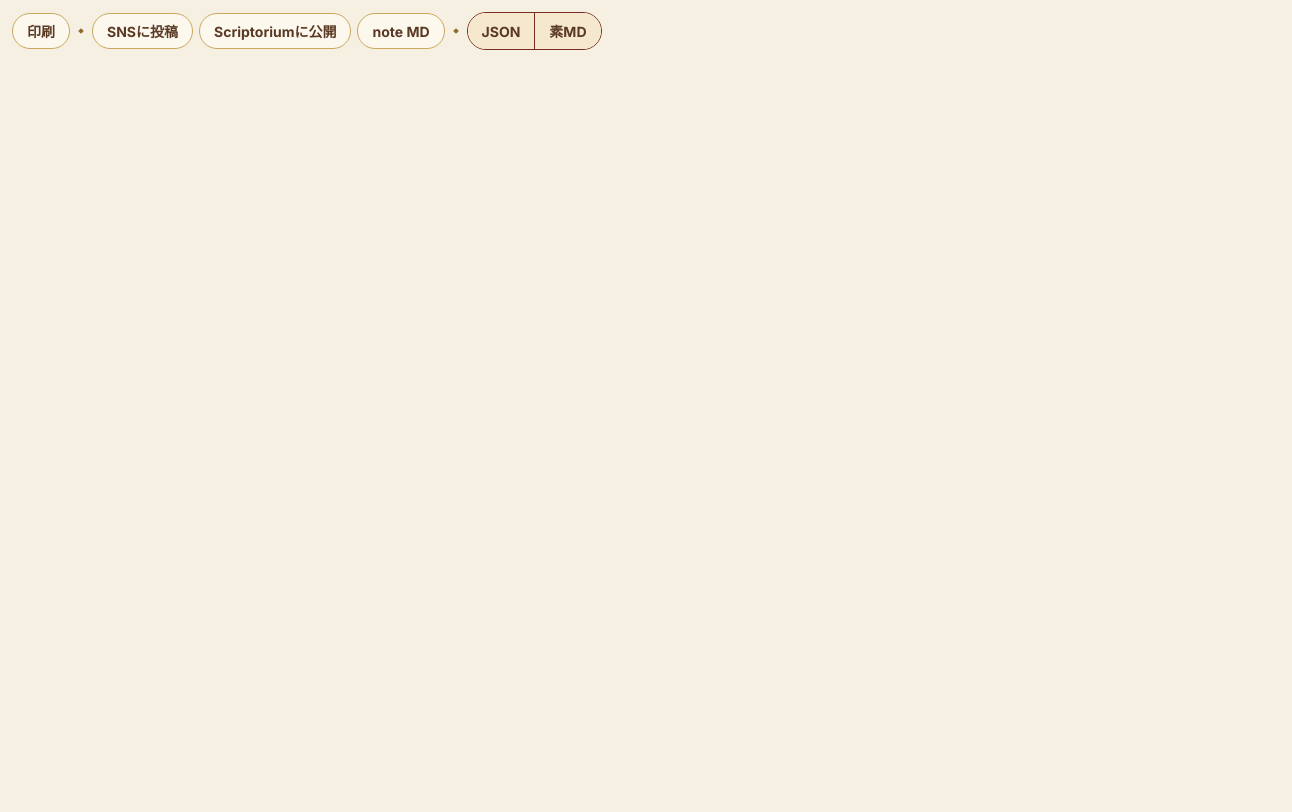
it: ExportActionBar — PC幅（従来のピル群） › 素MDボタン押下でクリップボードを使わずdownloadBlobへ直行する（FB-F）
Click the button "素MD" at (568, 31), box [535, 13, 601, 49]
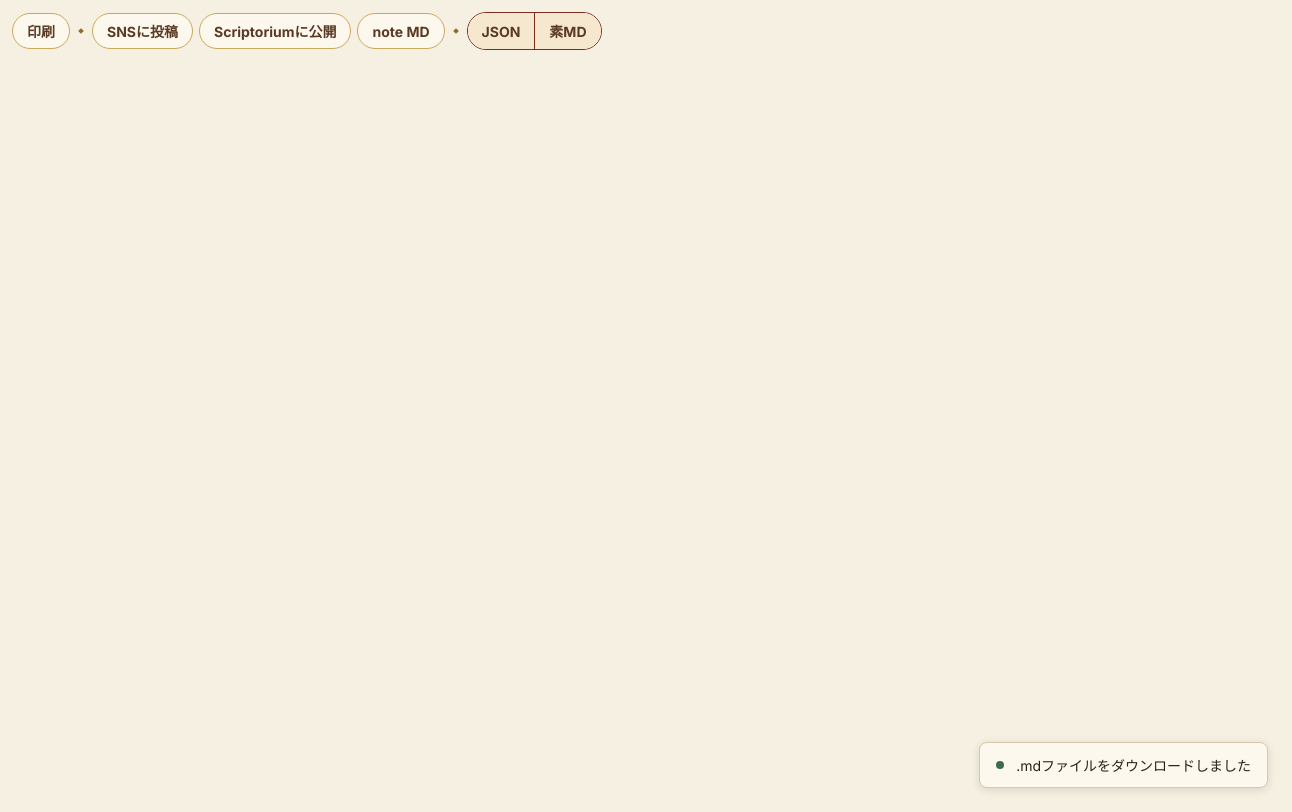
Check: the text ".mdファイルをダウンロードしました" is shown, box [1016, 755, 1251, 775]
